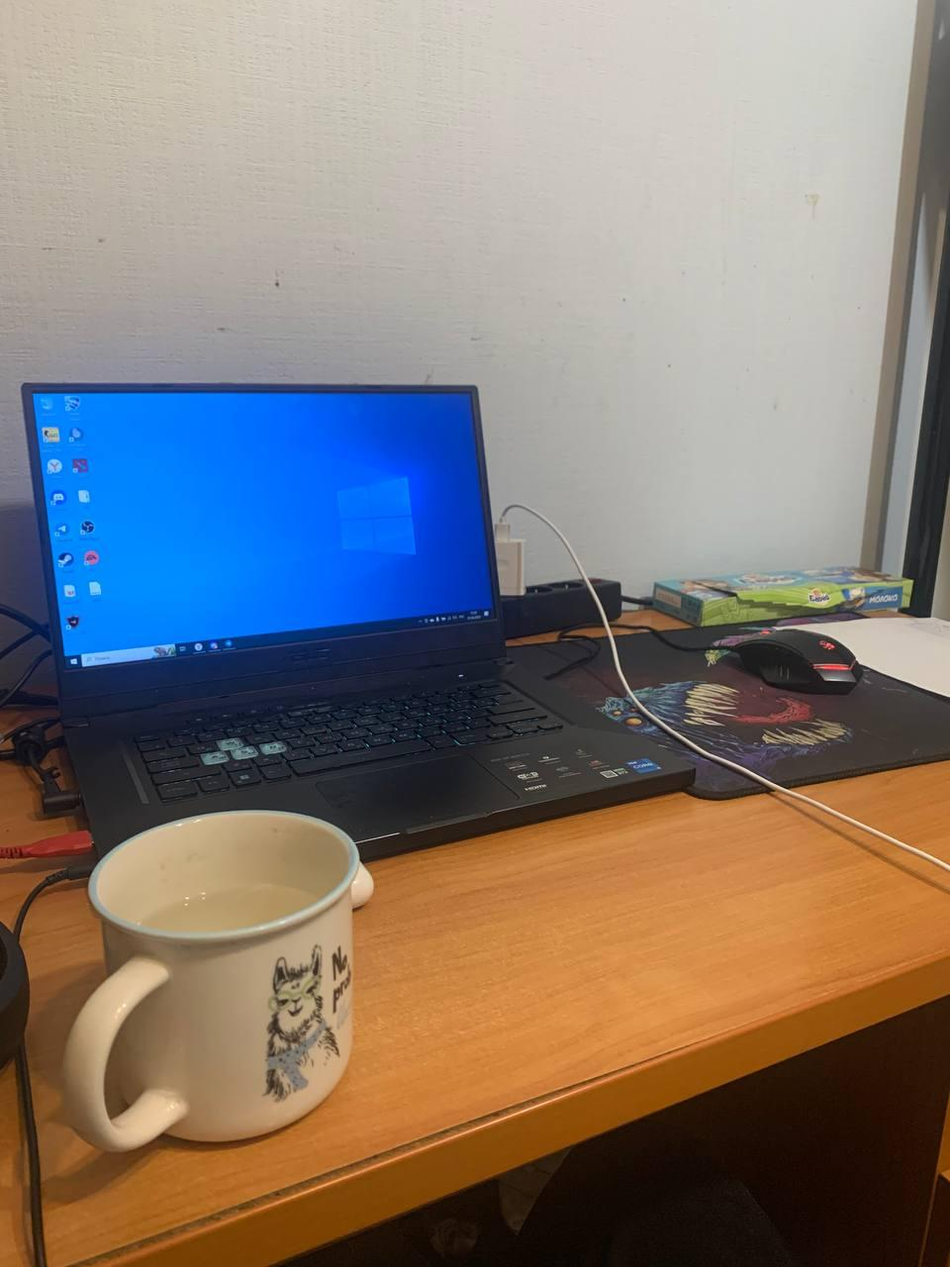monitor: (14, 370, 517, 729)
